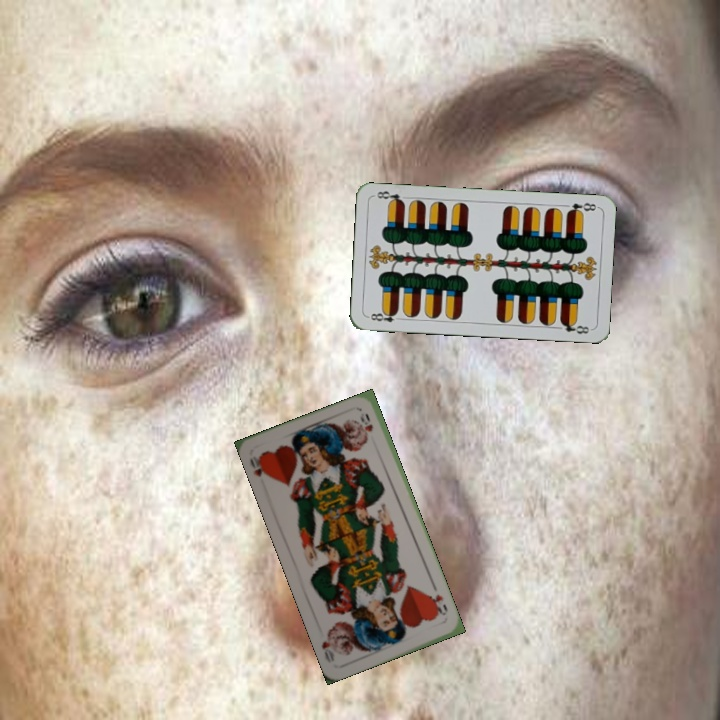E8: (364, 307, 405, 325), (563, 198, 600, 217)
HO: (246, 451, 272, 482), (426, 590, 450, 618)
